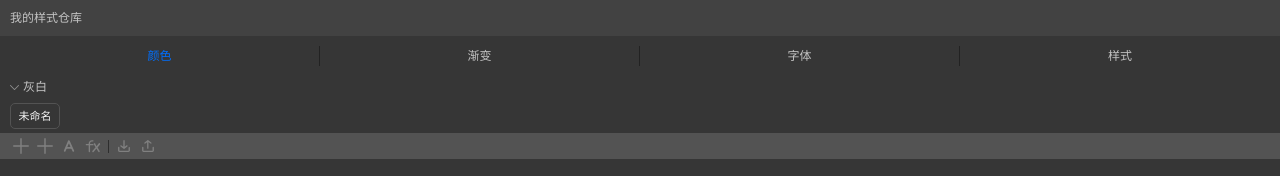
Test case: 样式页三态 › 四 tab：默认只显示颜色库，切到渐变后渲染渐变库
Check: the text "渐变默认分组" is not shown
Step 1. Click the text with class "g-tabs__label" showing "渐变" → [480, 56], box x1=468 y1=48 x2=492 y2=63
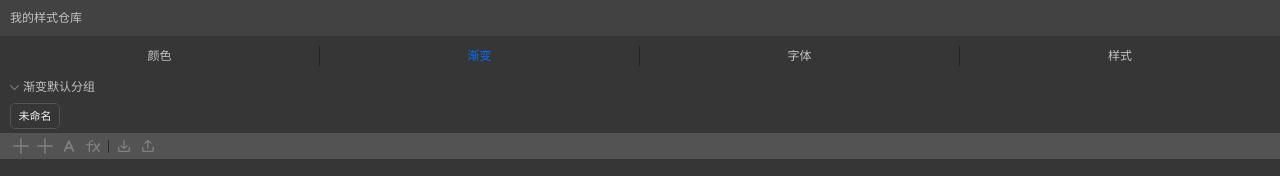
Check: the text "渐变默认分组" is shown, box x1=23 y1=78 x2=95 y2=96
Check: the text "灰白" is gone
